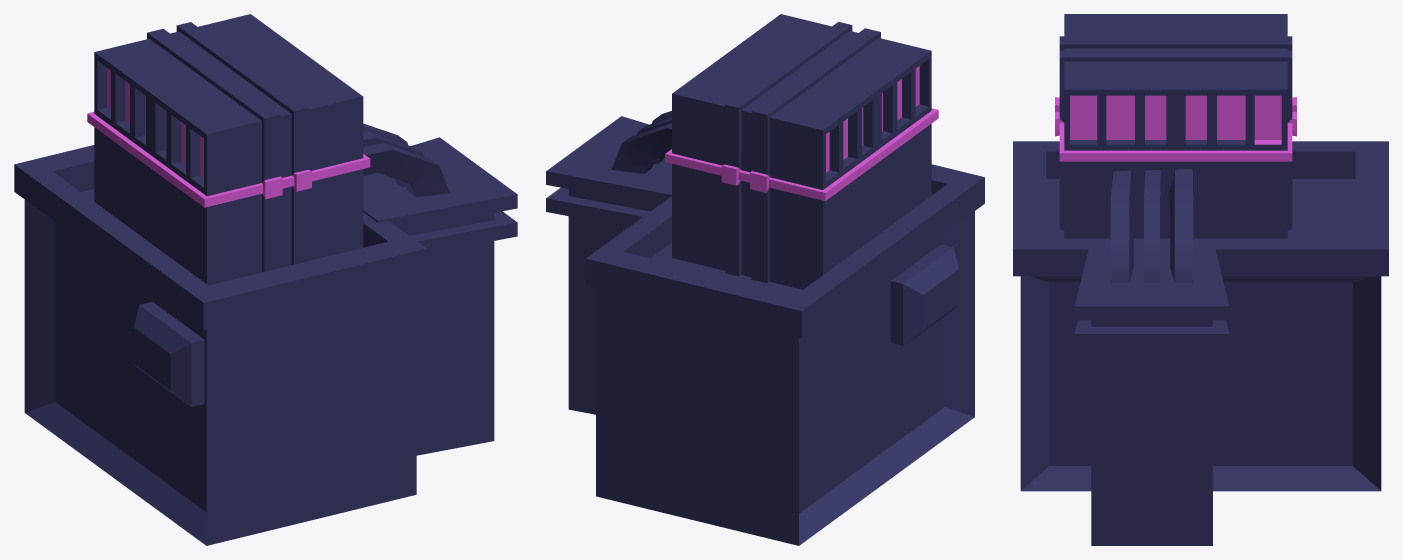
Rendered from Building_13.fbx.
3 views of the same model, side by side, from view 1: azimuth 30°, elevation 25°; view 2: azimuth 150°, elevation 25°; view 3: azimuth 270°, elevation 25° (orthographic). The views are drawn at different scales.
Parts seen in each view (by area): view 1: pCube45; view 2: pCube45; view 3: pCube45.
Part boxes in pixels (x1,y1,x2,y2): pCube45: [14, 14, 517, 545]; pCube45: [546, 14, 984, 545]; pCube45: [1013, 14, 1388, 545].
Bounding box in the file's own units: 6.63 × 7.17 × 6.25.
